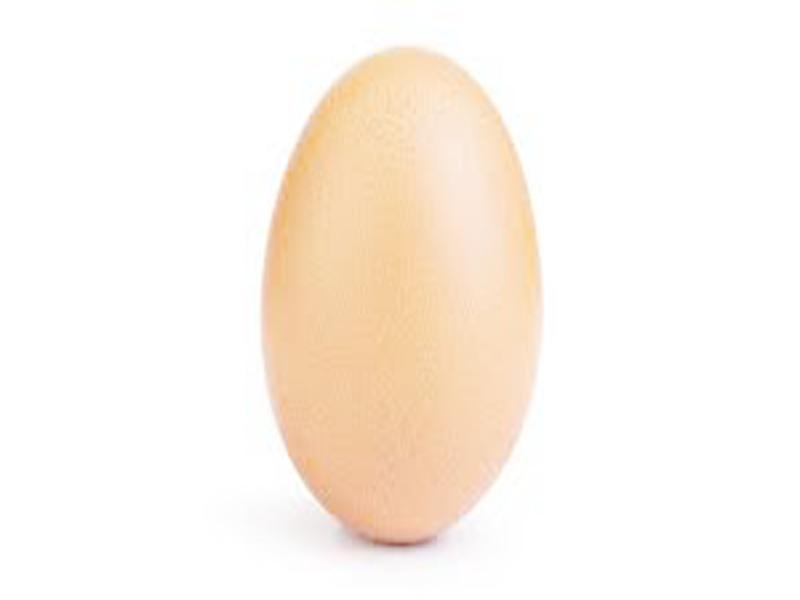Eggs: (263, 46, 538, 543)
